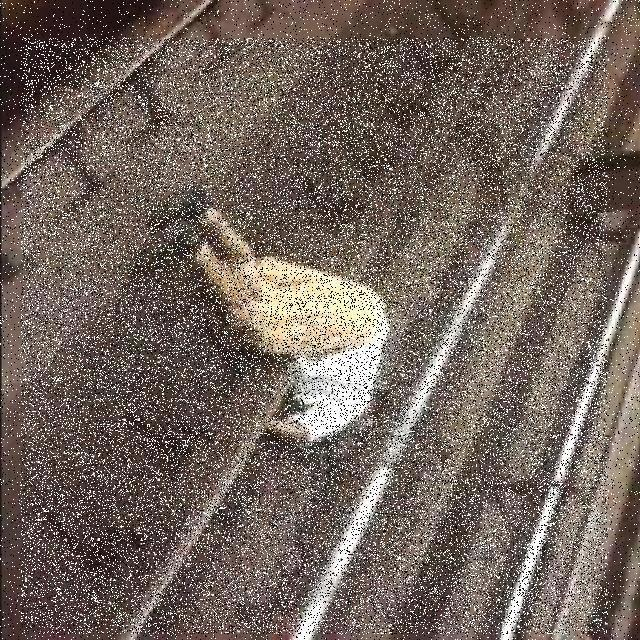rail: (89, 1, 640, 640), (469, 229, 640, 638)
